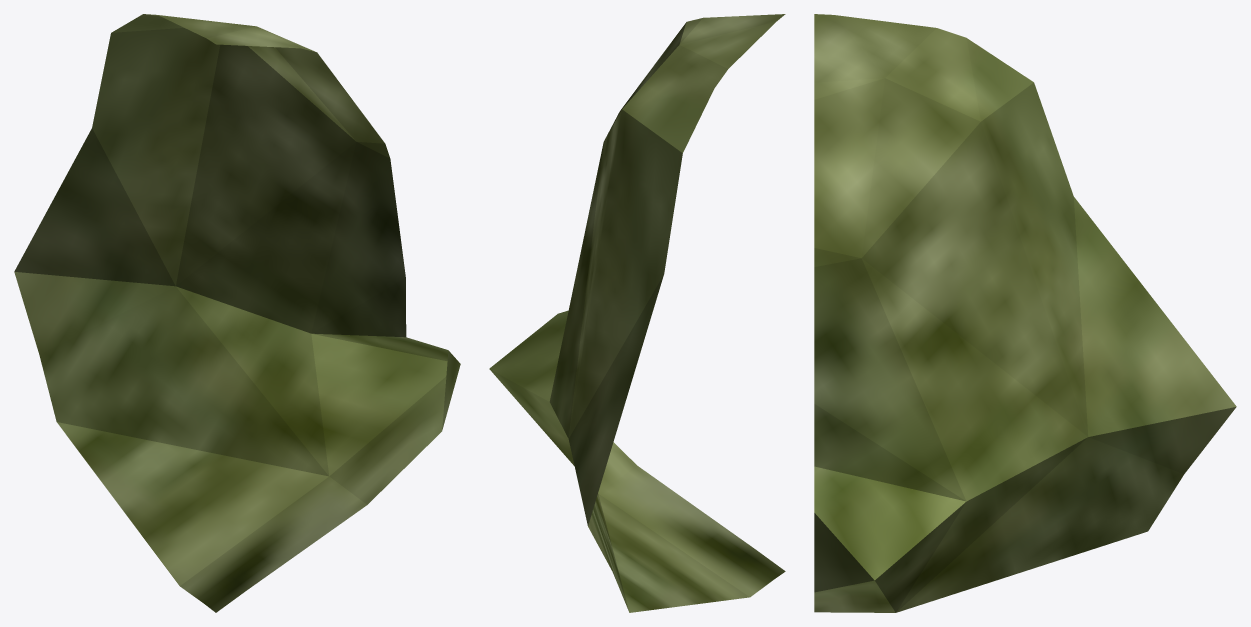
3 views of the same model, side by side, from view 1: azimuth 30°, elevation 25°; view 2: azimuth 150°, elevation 25°; view 3: azimuth 270°, elevation 25° (orthographic). The views are drawn at different scales.
Size of the model in its own units: 0.2596 by 0.5154 by 0.3316.
1 material, 1 textured.
